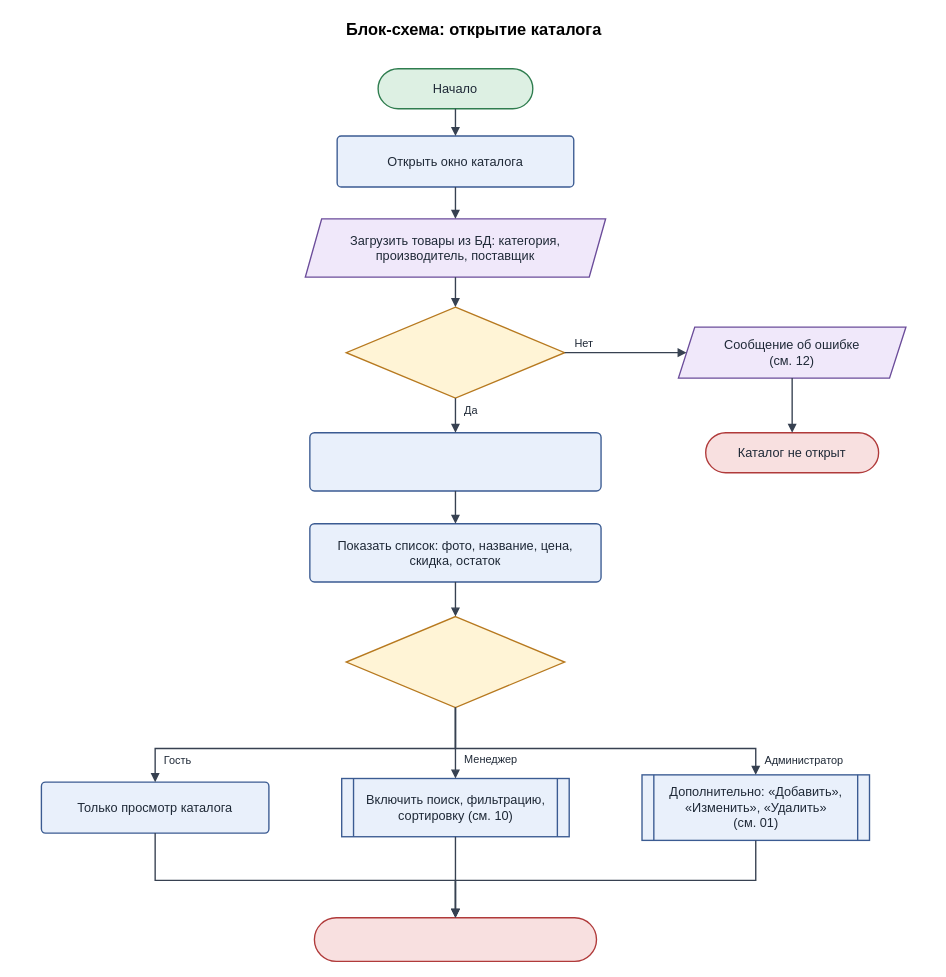
Some shapes in this 946 by 977 pixel diagram are drawn without their labels. The shapes that lost their labels are listed below. From the top down, each one's centre as x and y in pixels, then its label:
At point 455,352: "Данные получены?".
At point 455,461: "Рассчитать цену со скидкой, подготовить фото (если нет — заглушка)".
At point 455,661: "Роль пользователя?".
At point 455,939: "Каталог открыт, ожидание событий (см. 06)".
